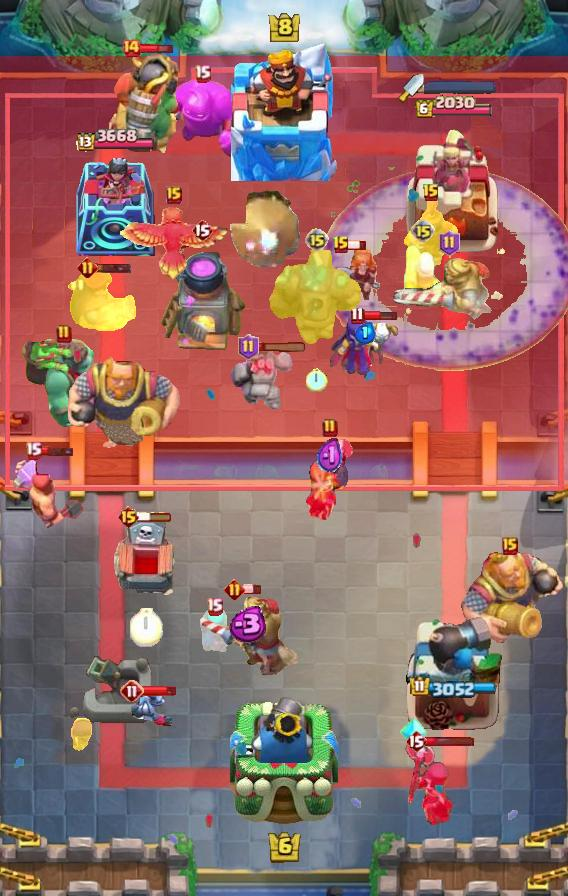axe: (330, 316, 400, 378)
bar: (403, 124, 503, 256)
cannoneer-tower: (269, 250, 365, 348)
clone: (148, 77, 256, 159)
earthquake: (404, 197, 458, 269)
electro-spirit: (224, 606, 268, 642), (317, 437, 343, 476), (355, 322, 376, 344)
elixir: (129, 609, 162, 648), (306, 367, 328, 392)
elixir-golem-mid: (111, 518, 181, 604)
emote: (425, 736, 475, 748), (256, 343, 308, 354), (138, 41, 174, 54), (95, 262, 132, 274), (39, 445, 75, 457), (137, 511, 173, 523), (141, 685, 177, 697), (362, 311, 398, 322), (347, 239, 367, 251), (242, 584, 262, 595)
giant-skeleton: (66, 351, 182, 451), (456, 550, 564, 646)
goblin: (69, 716, 94, 752)
golden-knight: (119, 207, 229, 283)
hog-rider: (329, 249, 381, 301)
hunter: (157, 246, 247, 354)
king-tower: (231, 43, 337, 181), (230, 692, 338, 826)
king-tower-bar: (424, 80, 496, 94)
lava-hound: (20, 335, 108, 429)
mighty-miner: (9, 451, 83, 533)
night-witch: (106, 45, 186, 153)
pad_2: (400, 715, 428, 749)
phoenix-small: (64, 267, 138, 331)
queen-tower: (73, 158, 155, 256)
ram-rider: (193, 592, 299, 676), (392, 255, 506, 325)
rascal-boy: (404, 738, 456, 830), (305, 438, 355, 524)
rocket: (322, 167, 568, 371)
royal-delivery: (128, 689, 172, 727)
selected: (414, 96, 494, 121), (74, 129, 154, 154), (411, 676, 498, 698)
text: (411, 219, 435, 243), (305, 228, 329, 252), (120, 679, 144, 703), (116, 505, 139, 529), (439, 230, 460, 256), (238, 334, 259, 360), (191, 218, 213, 242), (405, 729, 427, 753), (78, 257, 99, 279), (224, 579, 245, 601), (121, 38, 141, 58), (422, 183, 440, 203), (332, 235, 350, 255), (193, 64, 211, 83), (25, 441, 43, 459), (206, 596, 223, 615), (56, 324, 72, 344), (322, 418, 338, 438), (166, 186, 182, 204), (502, 537, 518, 555), (351, 307, 366, 326)
tombstone: (402, 242, 444, 300)
tower-bar: (402, 615, 504, 731)
valkyrie-evolution: (230, 347, 296, 413)
witch: (197, 607, 231, 655)
x-bow: (215, 188, 301, 270)
